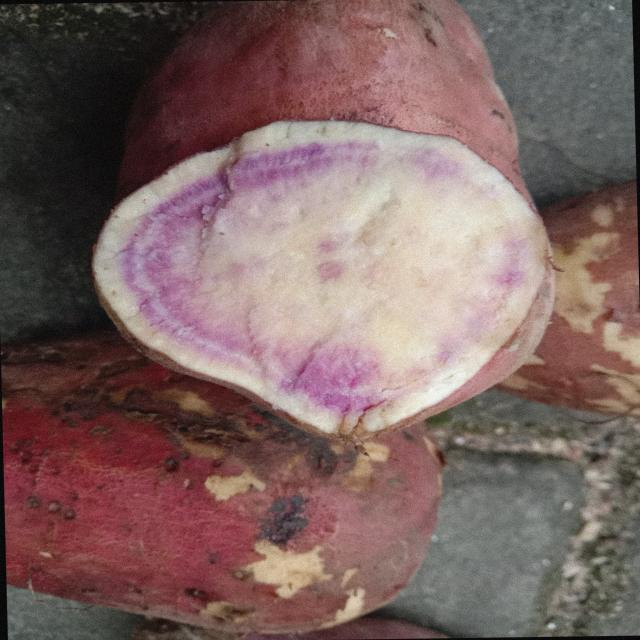Healthy Sweet Potato: (93, 121, 553, 441)
